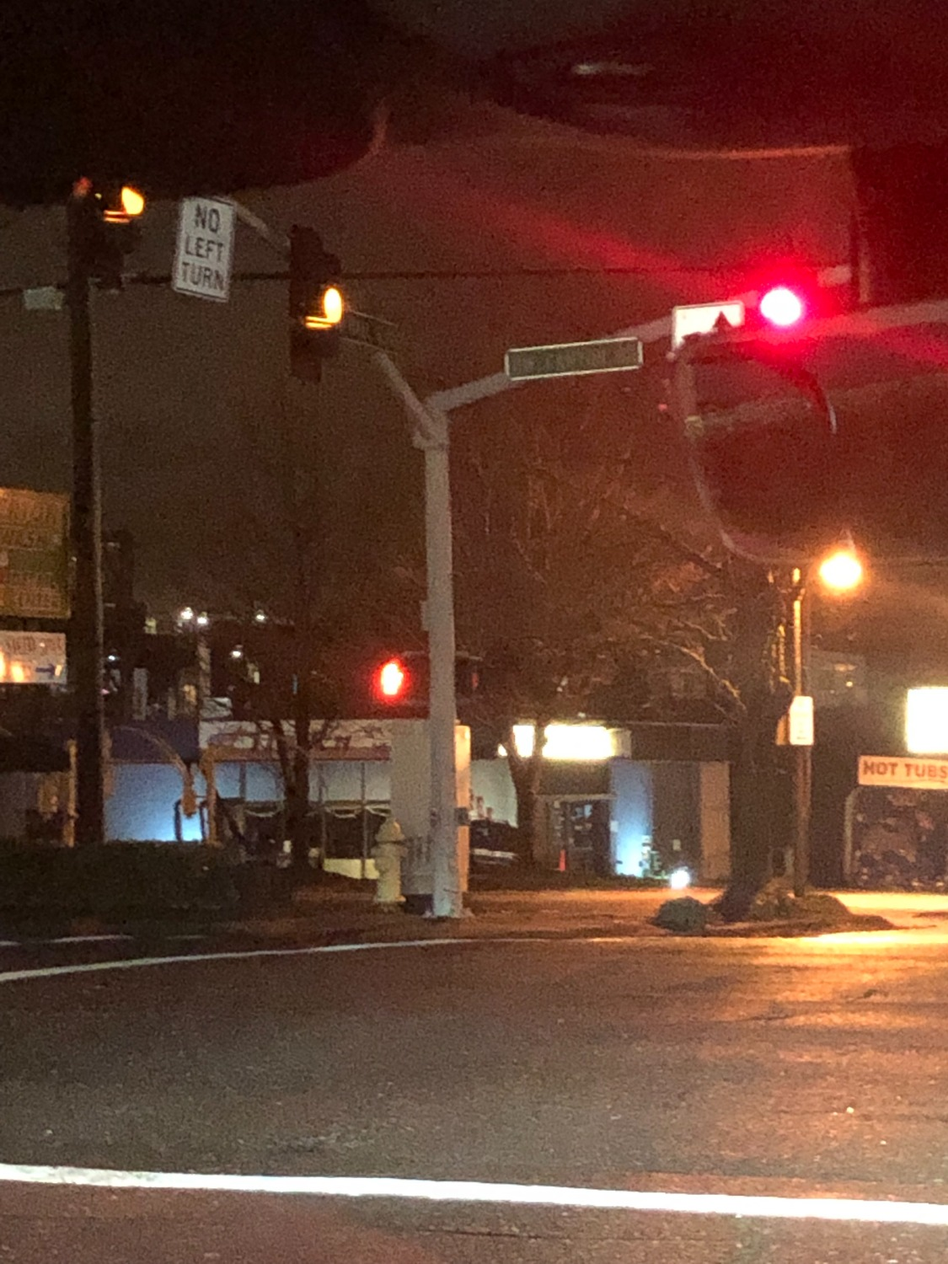crosswalk: (0, 1165, 947, 1263), (0, 918, 488, 980)
pedestrian_stop: (373, 658, 411, 702)
